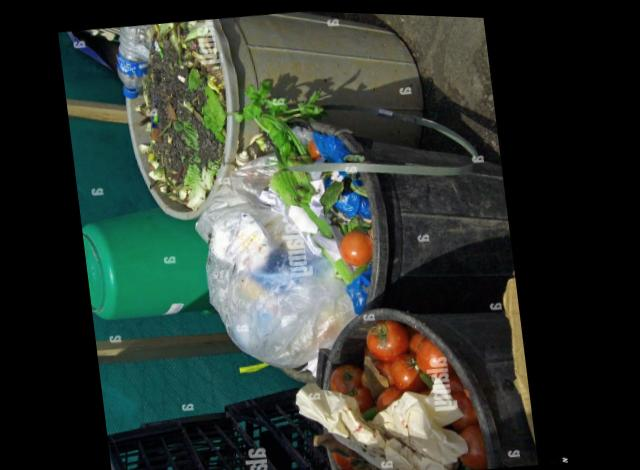Garbage: (118, 18, 468, 378), (296, 316, 487, 470)
Plastic_Bag: (196, 154, 355, 366), (346, 260, 371, 310), (314, 129, 351, 160), (334, 186, 371, 216), (349, 170, 363, 183)
Plastic_bottle: (117, 23, 153, 97)
